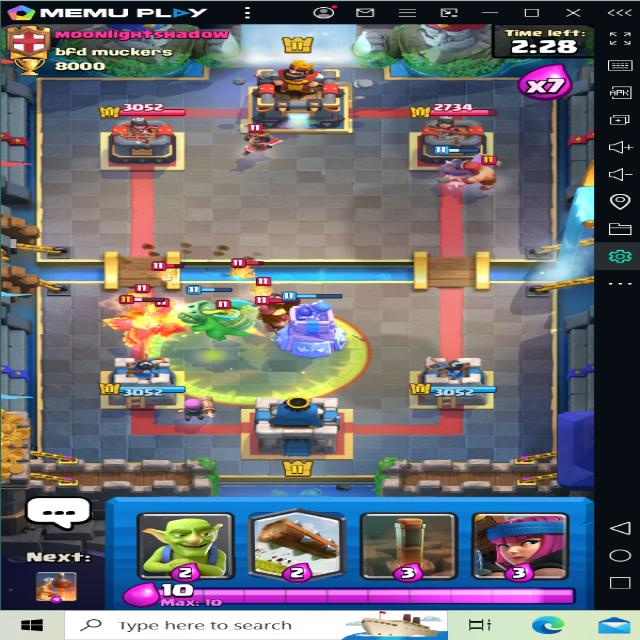Fisherman: (246, 296, 312, 328)
Goblincurse: (137, 299, 377, 410)
Littleprince: (236, 119, 286, 159)
Lumberjack: (459, 155, 519, 195)
Pheonix: (90, 303, 189, 347)
